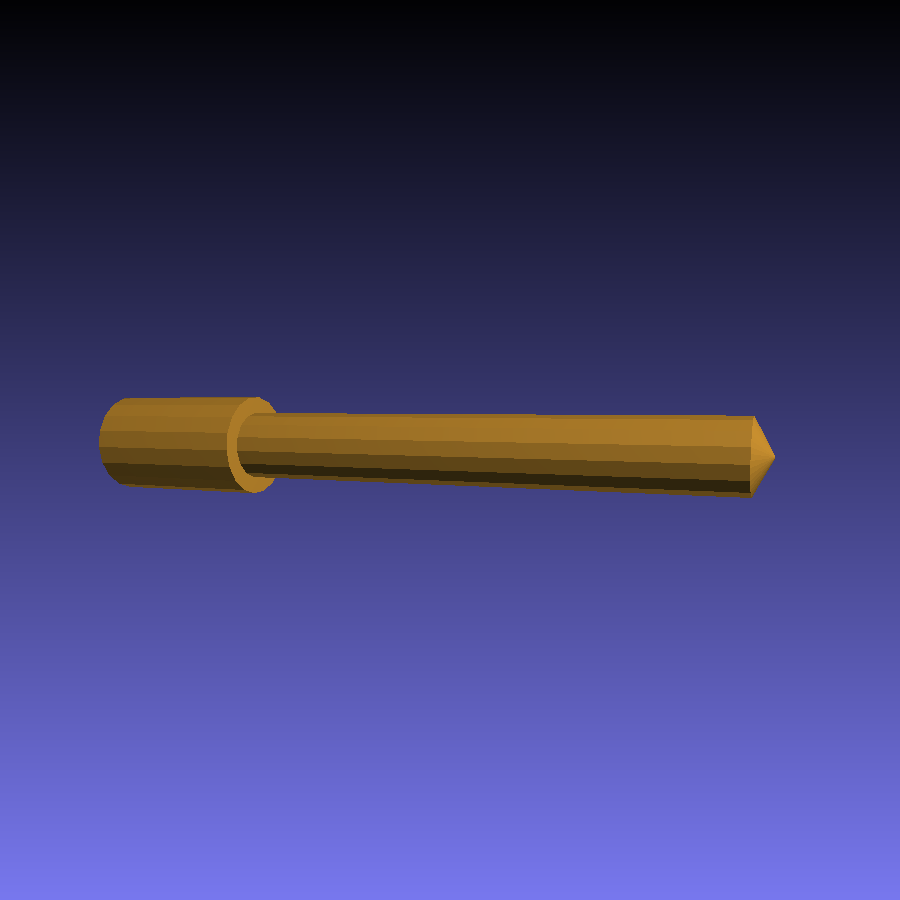cargo_g: (98, 396, 773, 503)
